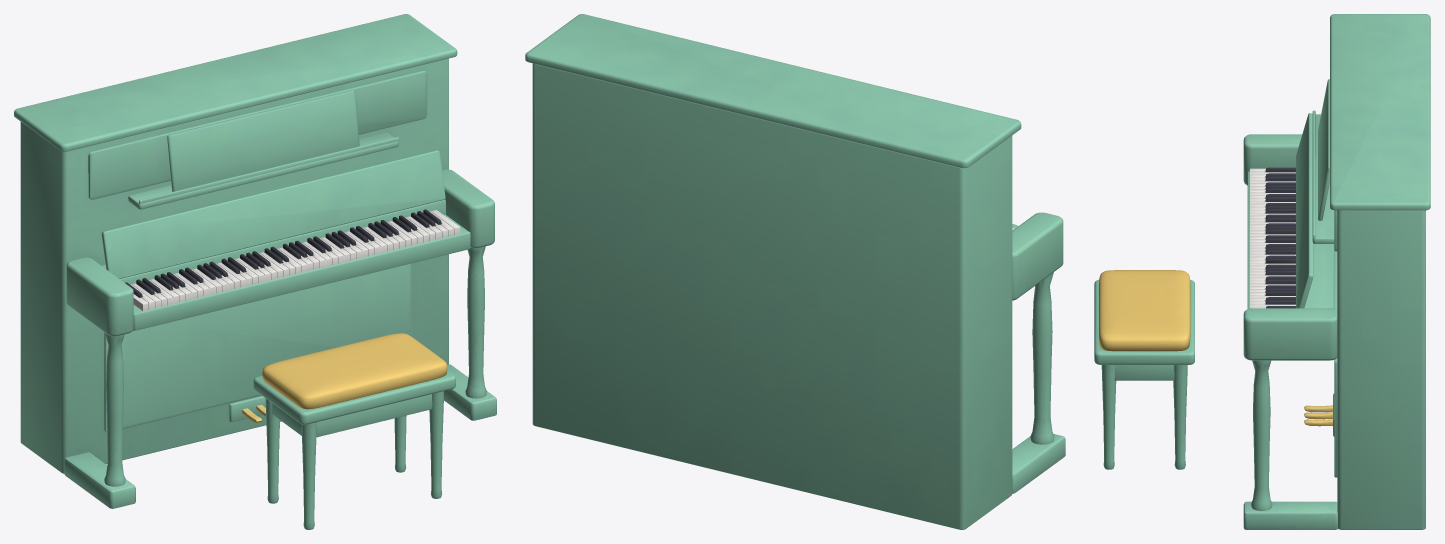
File: upright-piano.glb
3 renders of one model, left to right at view 1: azimuth 30°, elevation 25°; view 2: azimuth 150°, elevation 25°; view 3: azimuth 270°, elevation 25°, orthographic. The views are drawn at different scales.
Visible parts, largest first — view 1: upright-piano_body, upright-piano_top_lid, upright-piano_bench, upright-piano_fallboard, upright-piano_keys; view 2: upright-piano_body, upright-piano_top_lid; view 3: upright-piano_body, upright-piano_top_lid, upright-piano_bench, upright-piano_keys, upright-piano_fallboard.
Part boxes in pixels (x1,y1,x2,y2): upright-piano_body: [20, 58, 496, 508]; upright-piano_top_lid: [14, 14, 457, 151]; upright-piano_bench: [253, 333, 455, 529]; upright-piano_fallboard: [101, 150, 445, 278]; upright-piano_keys: [125, 209, 460, 311]; upright-piano_body: [532, 63, 1065, 529]; upright-piano_top_lid: [525, 14, 1021, 168]; upright-piano_body: [1243, 79, 1425, 529]; upright-piano_top_lid: [1330, 14, 1430, 210]; upright-piano_bench: [1094, 270, 1194, 469]; upright-piano_keys: [1250, 167, 1295, 308]; upright-piano_fallboard: [1296, 113, 1313, 308].
Bounding box in the file's own units: 1.52 × 1.22 × 1.13.
5 materials, 5 textured.
